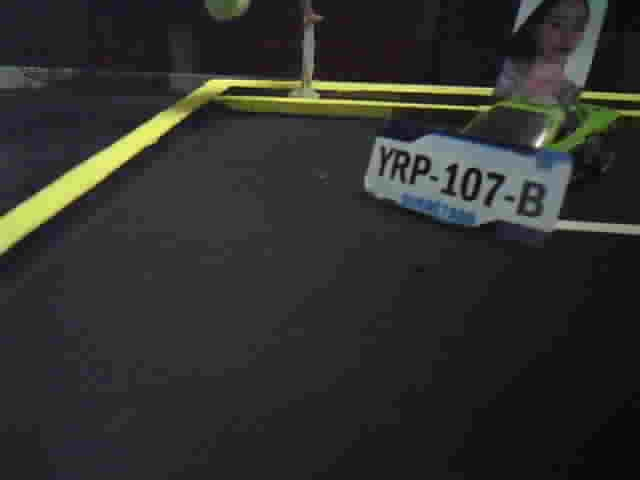PLACA: (359, 117, 575, 254)
ROSTRO: (521, 2, 582, 104)
